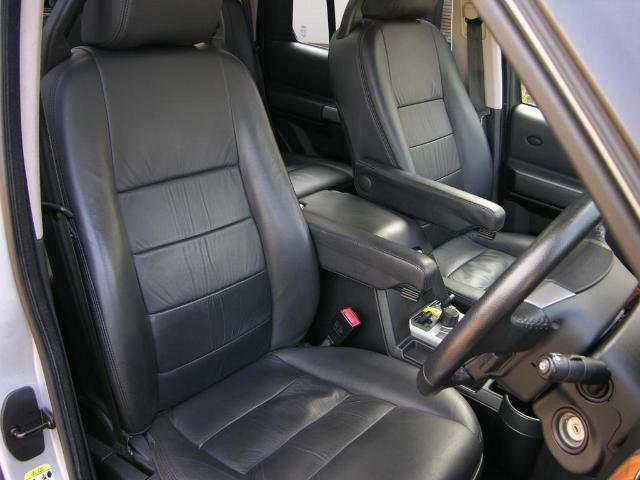Seatbelt: (45, 215, 127, 451), (464, 22, 484, 130)
